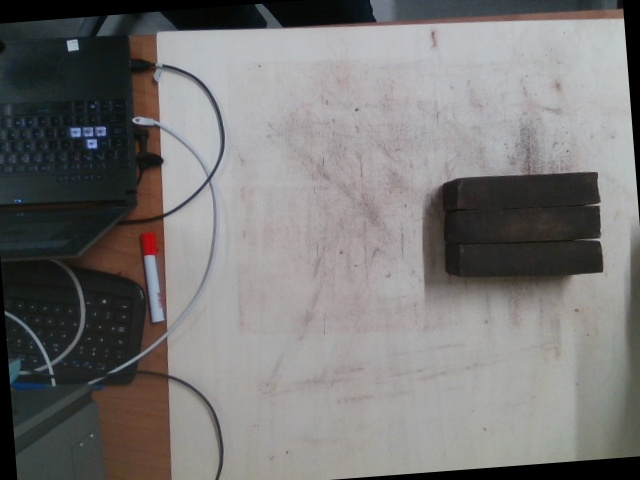brick-side: (458, 207, 595, 242), (462, 242, 599, 277), (459, 174, 595, 209)
